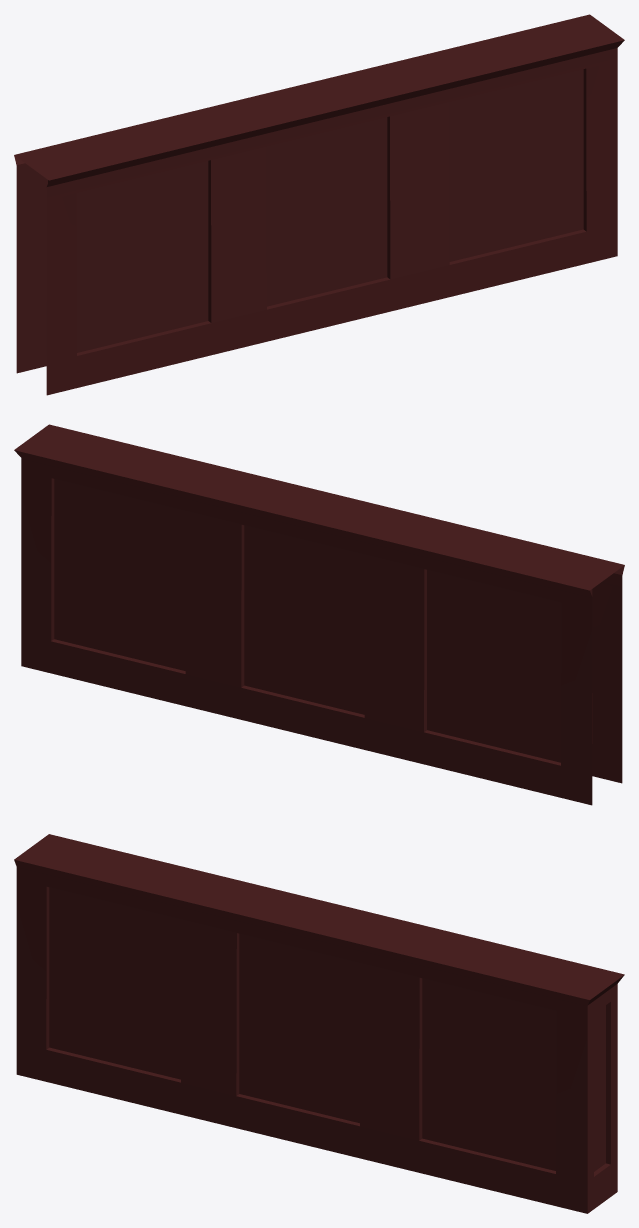
The model's file is WallSeperate.fbx.
3 renders of one model, top to bottom at view 1: azimuth 30°, elevation 25°; view 2: azimuth 150°, elevation 25°; view 3: azimuth 330°, elevation 25°, orthographic.
Visible parts, largest first — view 1: WallOneSide23; view 2: WallOneSide23; view 3: WallOneSide23.
Part boxes in pixels (<box>): WallOneSide23: <box>14,14,624,395</box>; WallOneSide23: <box>14,424,624,805</box>; WallOneSide23: <box>14,834,624,1213</box>.
Bounding box in the file's own units: 4.03 × 1.45 × 0.4256.
